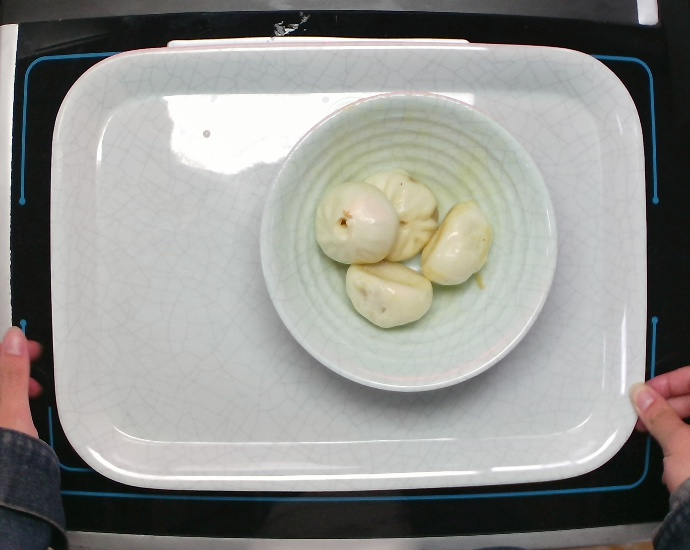JYsf-Xiao_Tang_Wan: (253, 82, 560, 400)
